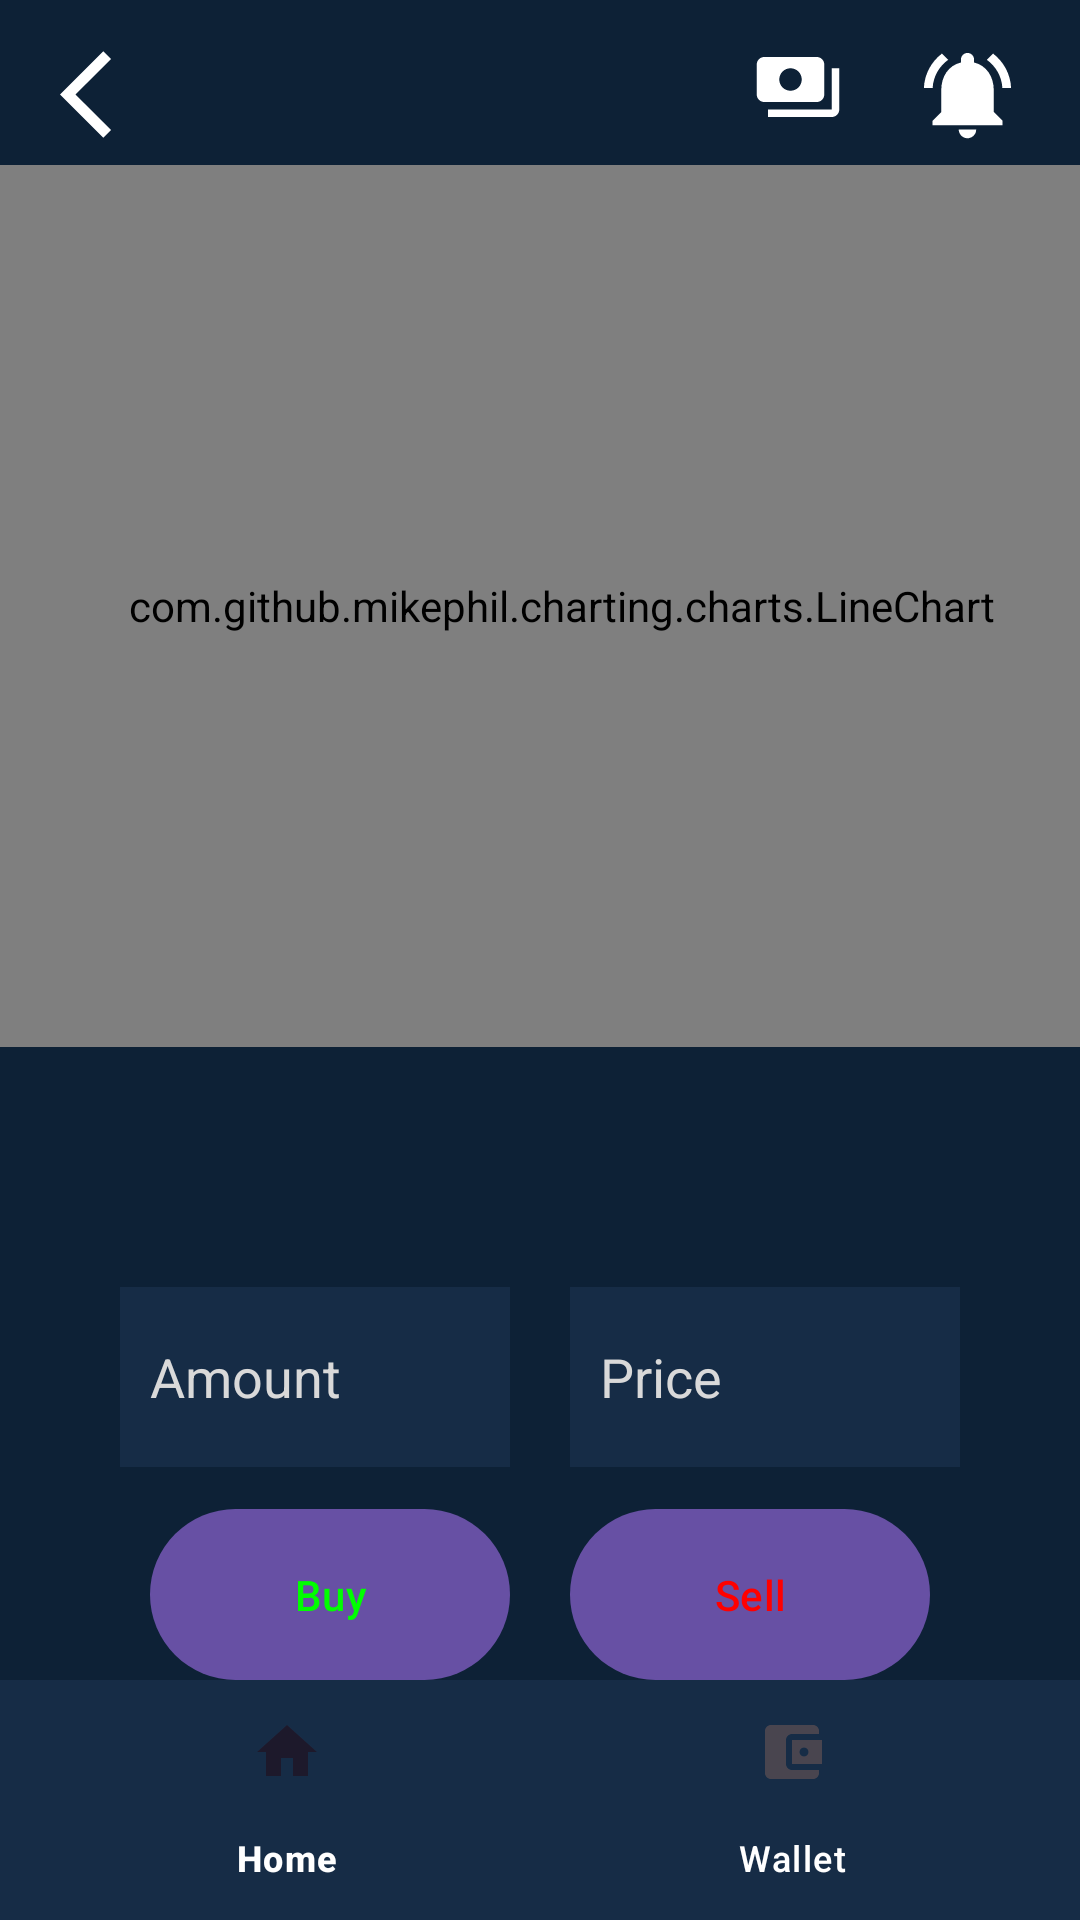

Locate icon controls on the screen. Image size 1080w x 1920h, boxes as (x1, y1, x2, y2).
arrow back: (60, 51, 111, 138)
notifications: (924, 53, 1011, 139)
payments: (756, 57, 840, 117)
